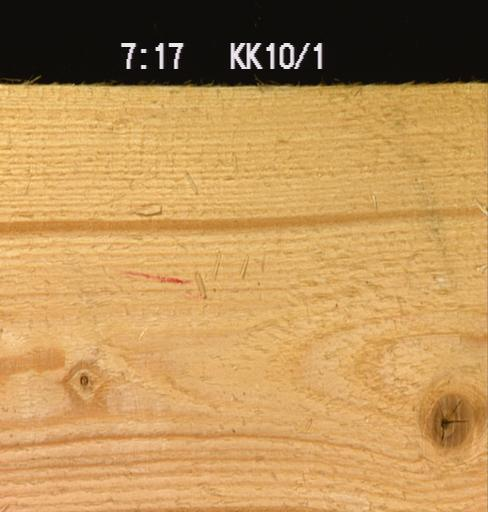dry_knot: (75, 372, 92, 386)
sound_knot: (424, 389, 473, 450)
